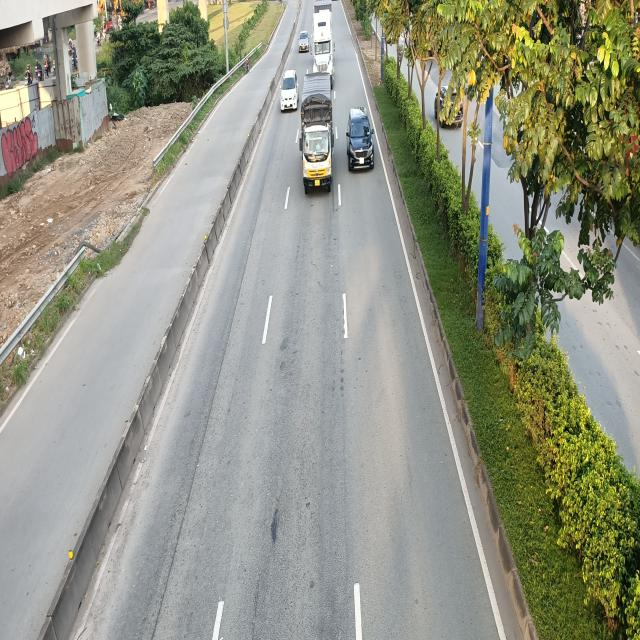car: (347, 106, 375, 172), (280, 69, 298, 113)
container: (311, 0, 334, 78)
truck: (301, 71, 338, 194)
